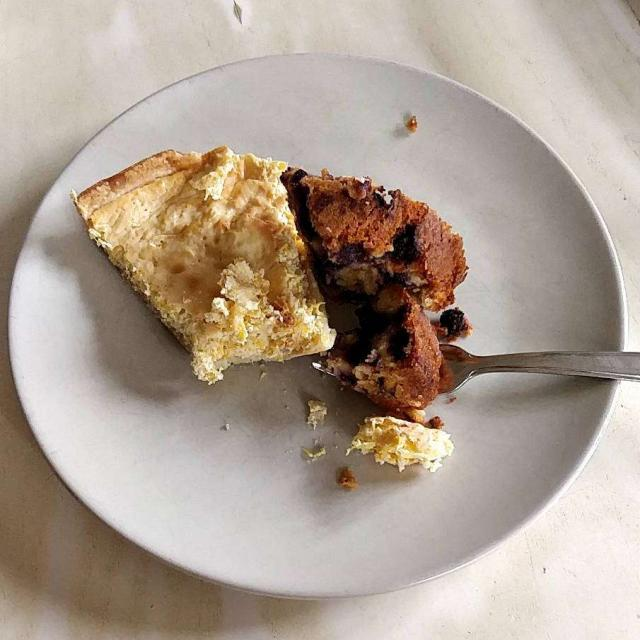apple-pie: (73, 147, 460, 475)
fruit-tart: (308, 166, 472, 416)
